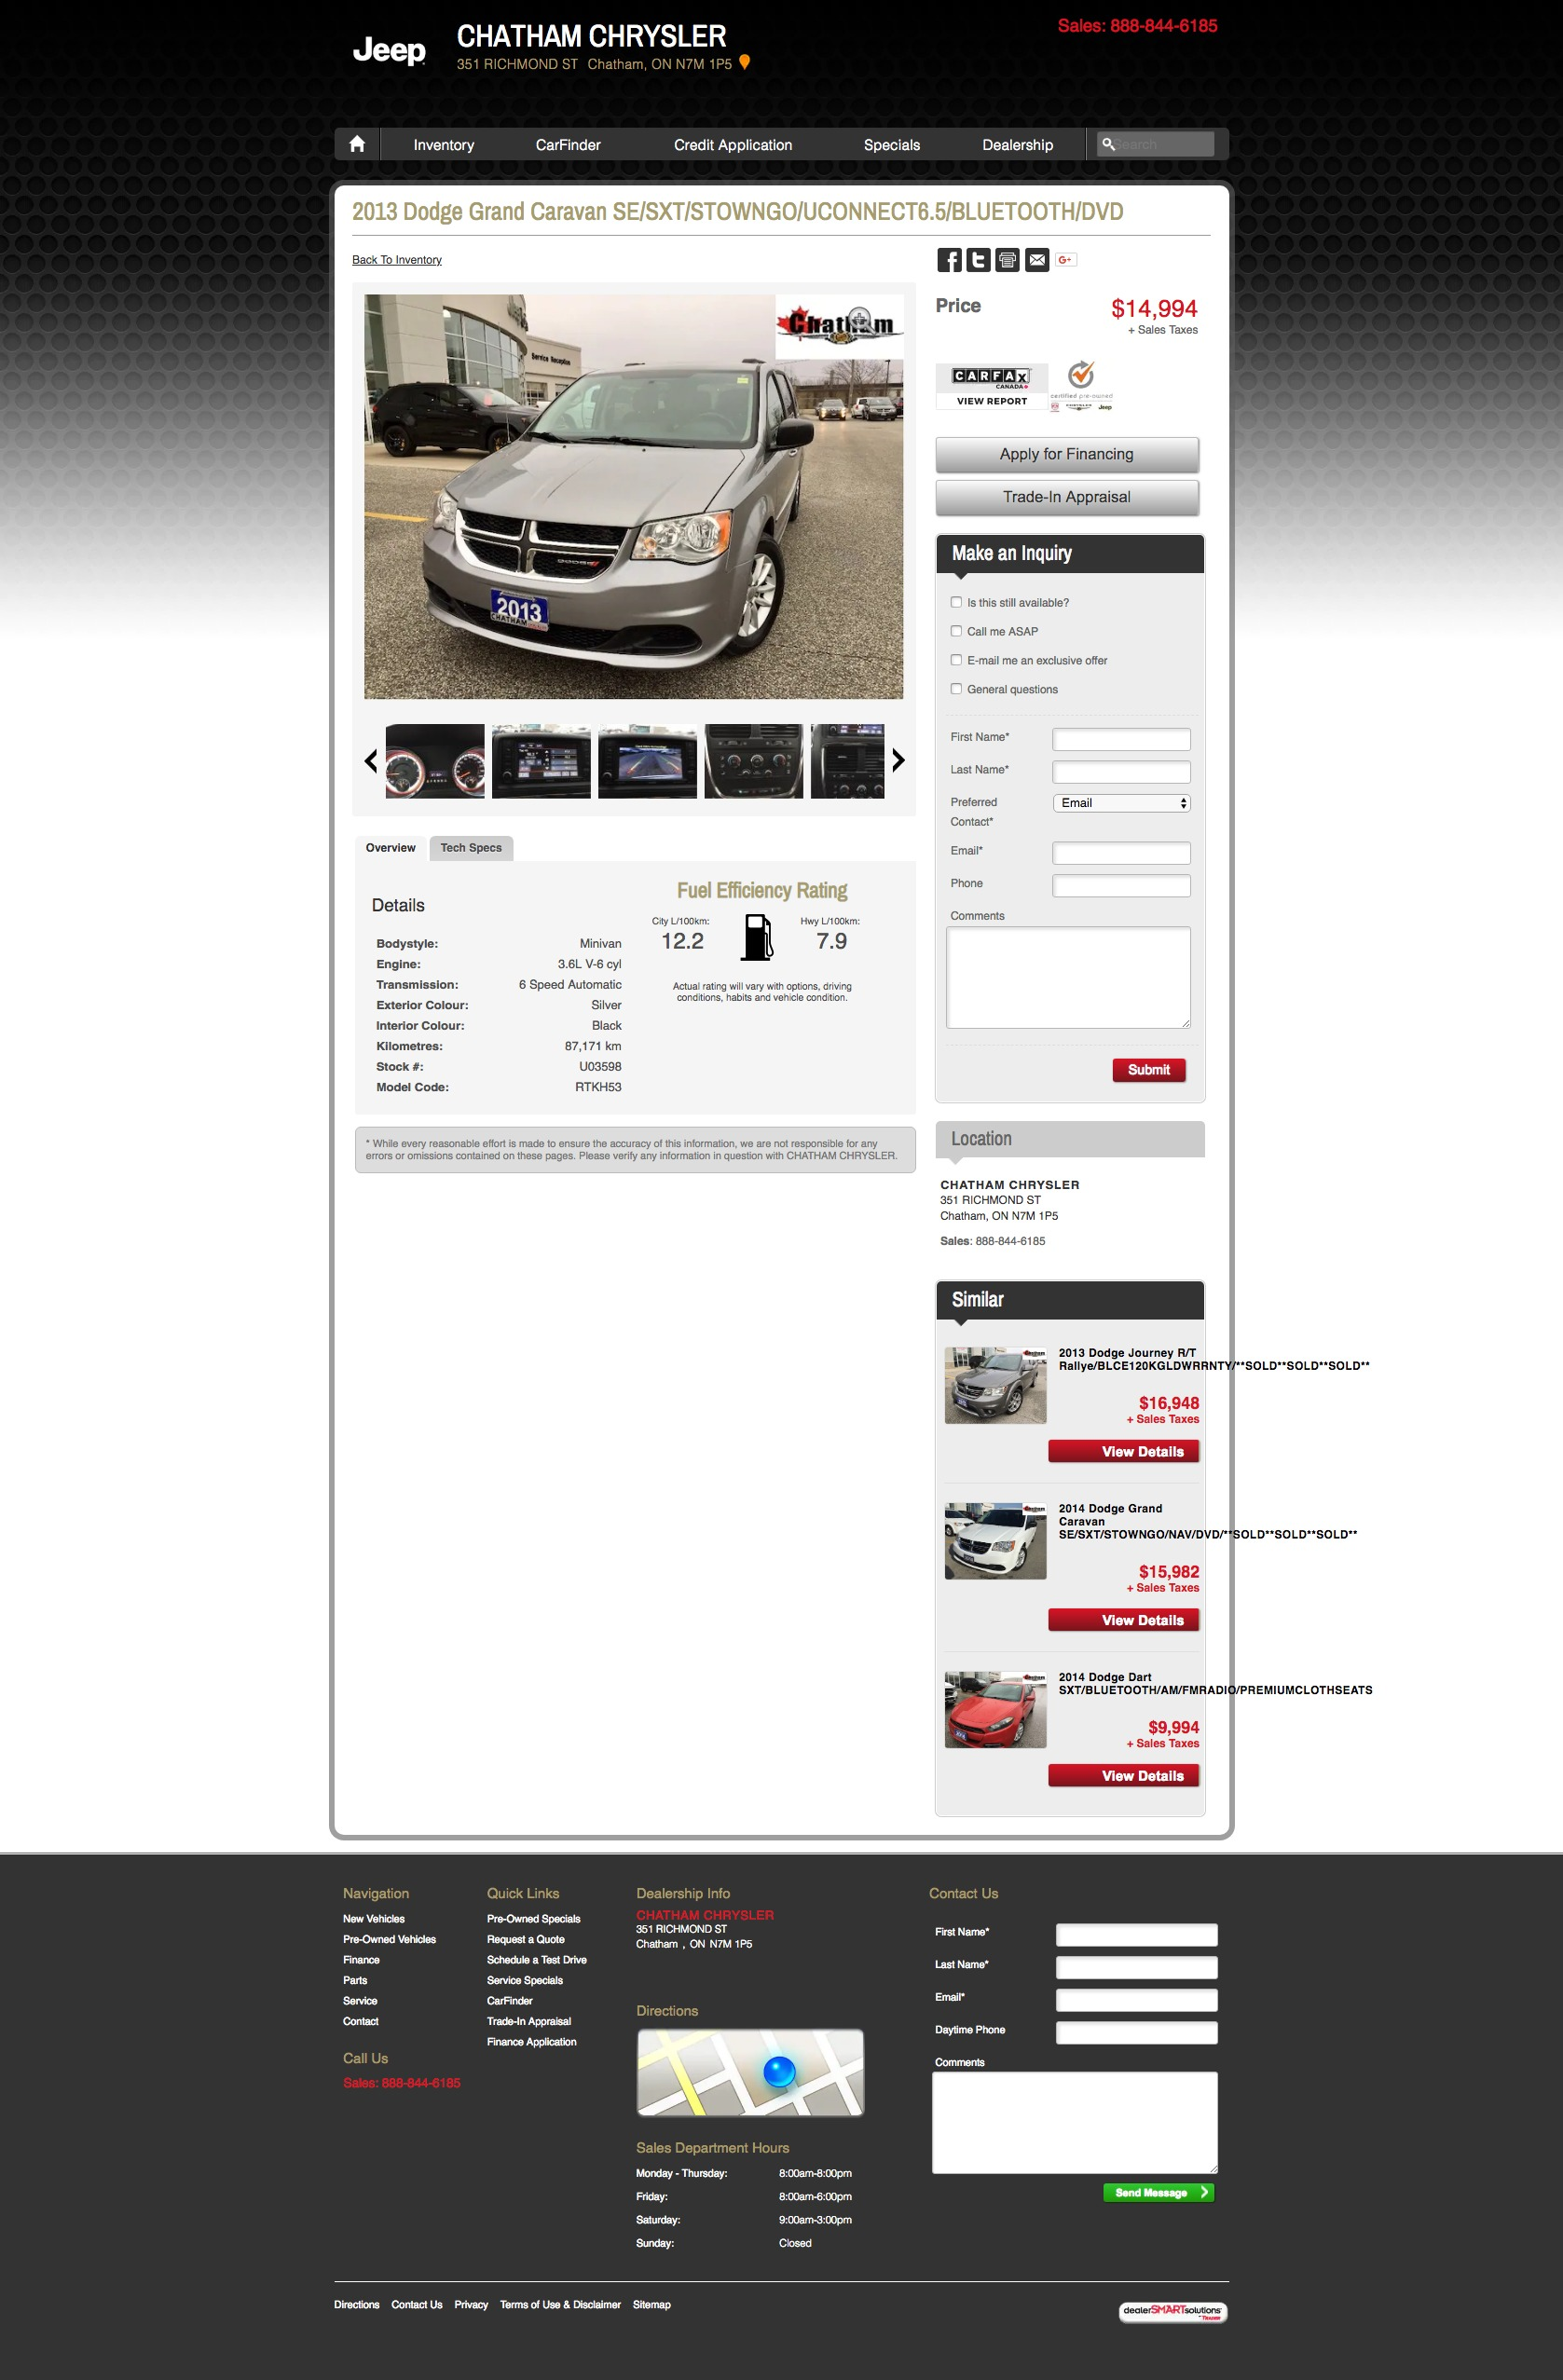car: (891, 748, 907, 774)
